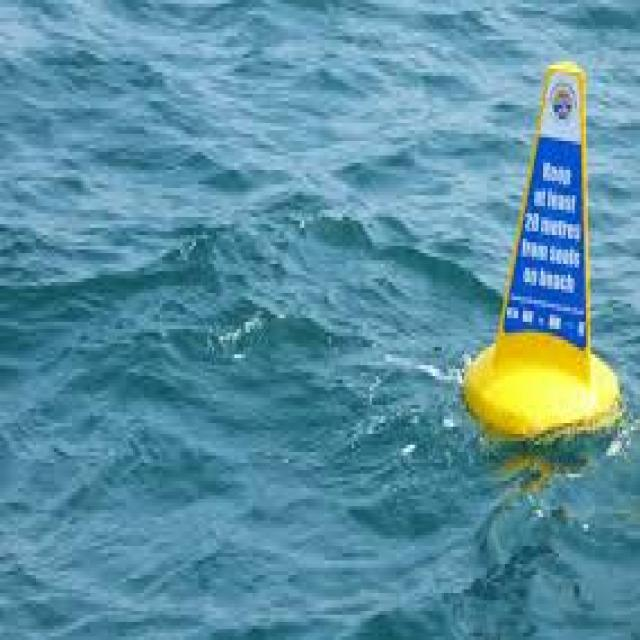marque: (447, 24, 631, 471)
